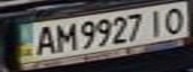2: (109, 14, 133, 45)
7: (124, 10, 148, 42)
9: (93, 16, 115, 48), (75, 18, 96, 50)
A: (27, 22, 60, 55)
I: (142, 7, 172, 37)
M: (51, 20, 78, 52)
O: (157, 3, 193, 35)
